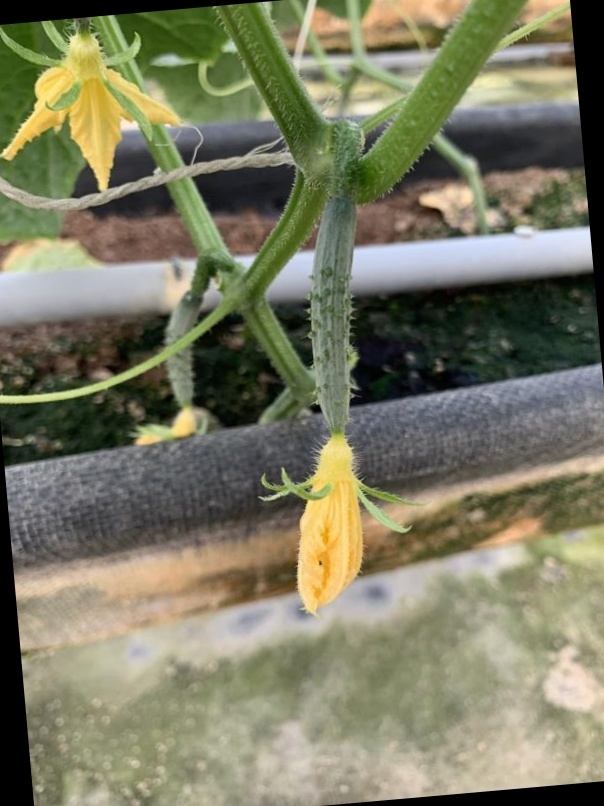bear: (268, 201, 401, 578)
